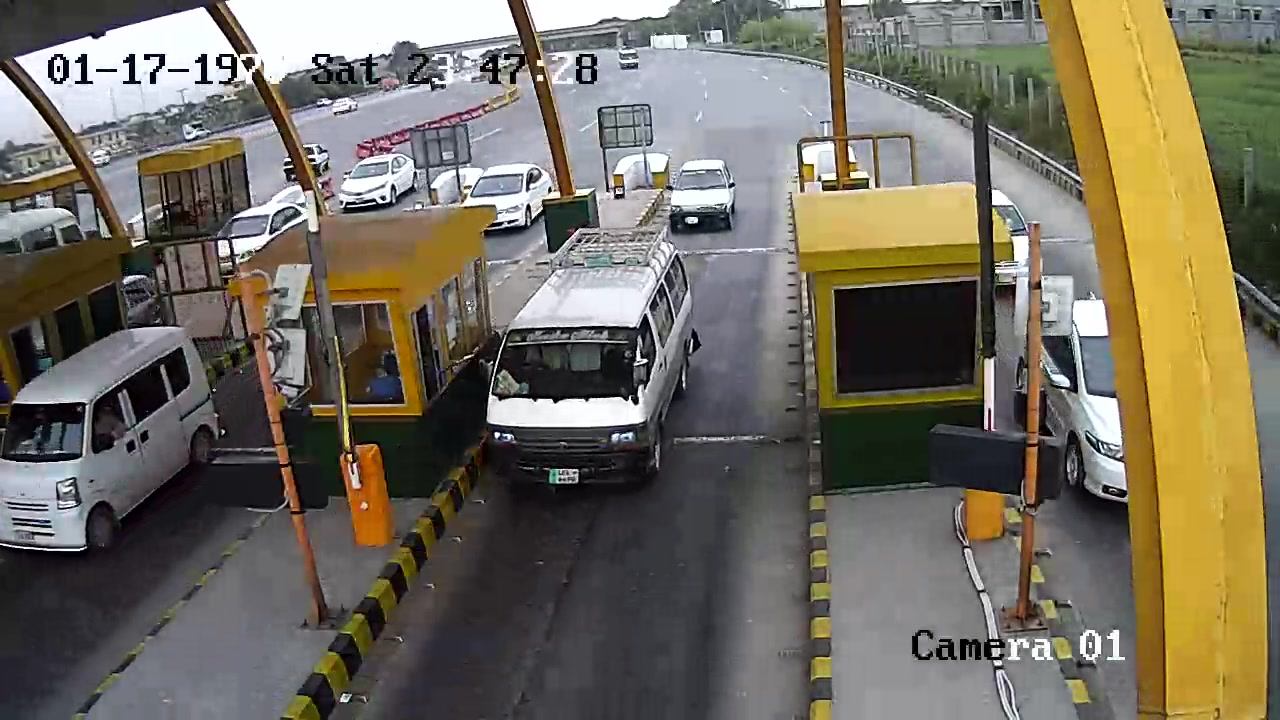F2: (479, 224, 710, 492)
